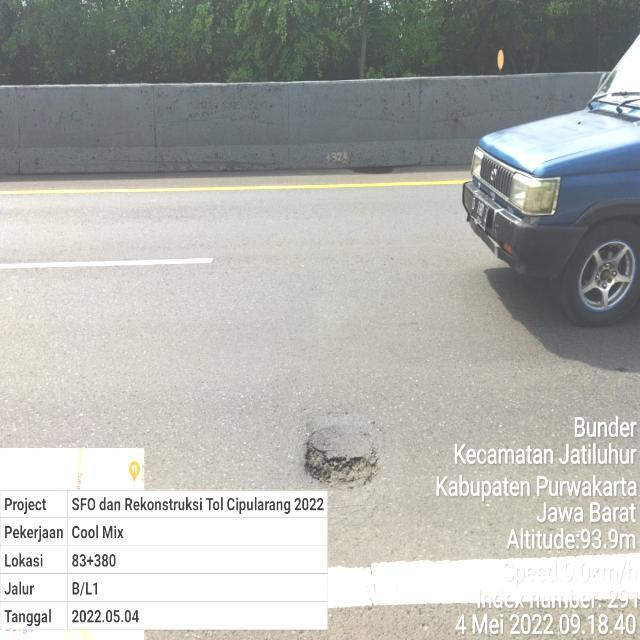Buraco: (301, 439, 383, 493)
